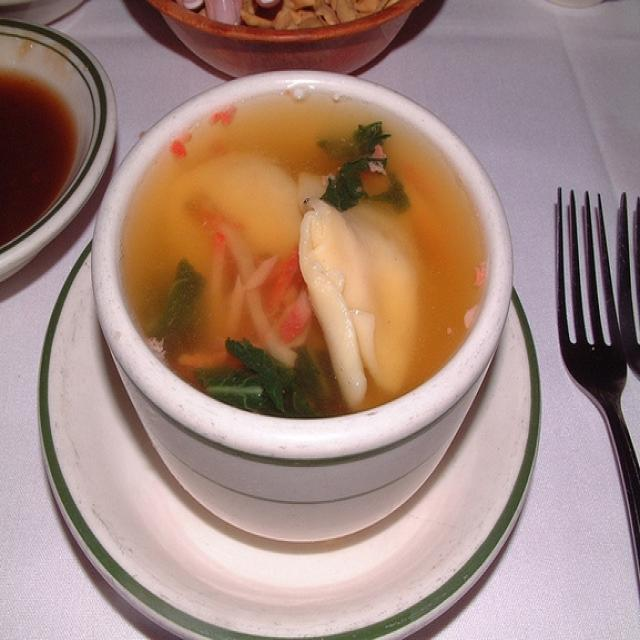汤锅炖物: (100, 68, 503, 466)
